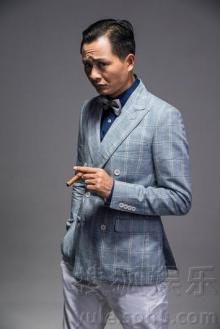other: (56, 14, 195, 328)
